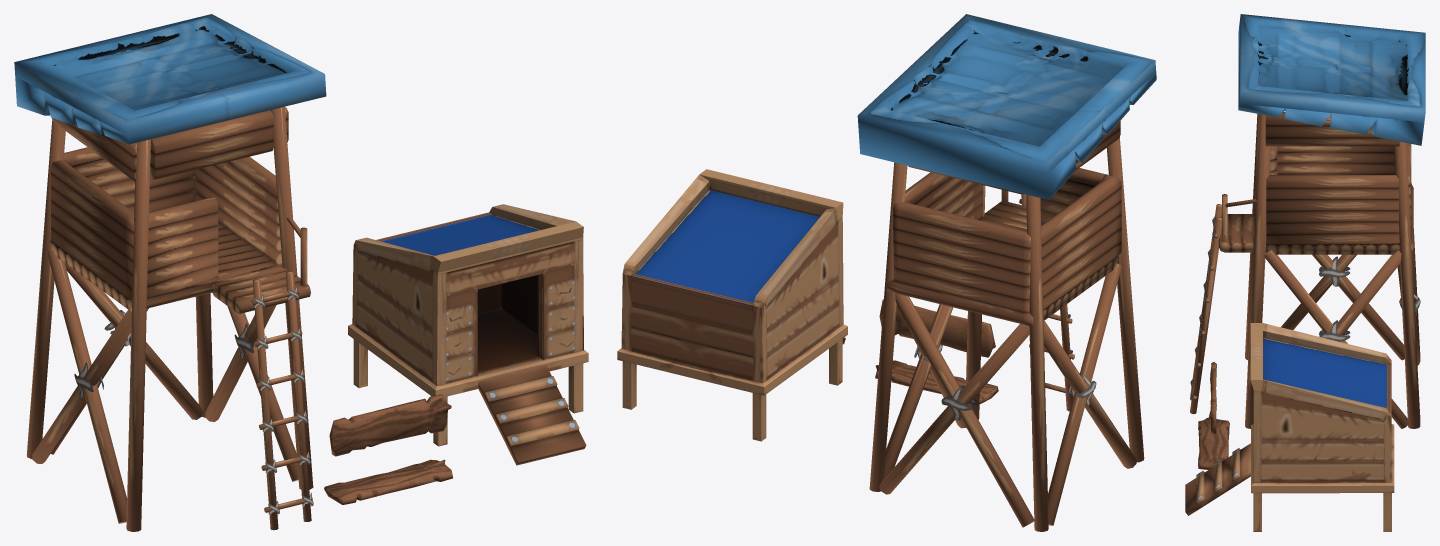
The model's file is buildings_and_props.glb.
3 views of the same model, side by side, from view 1: azimuth 30°, elevation 25°; view 2: azimuth 150°, elevation 25°; view 3: azimuth 270°, elevation 25° (orthographic). The views are drawn at different scales.
Visible parts, largest first — view 1: mirador, chickenhouse, entrer.001, miradorladder, woodenplank.001, woodenplank; view 2: mirador, chickenhouse, woodenplank.001, woodenplank, miradorladder; view 3: mirador, chickenhouse, entrer.001, miradorladder, woodenplank, woodenplank.001.
Boxes of the visible parts, x1=… form: mirador: x1=14, y1=14, x2=326, y2=531; chickenhouse: x1=348, y1=204, x2=588, y2=446; entrer.001: x1=478, y1=365, x2=586, y2=465; miradorladder: x1=251, y1=271, x2=313, y2=530; woodenplank.001: x1=329, y1=394, x2=451, y2=456; woodenplank: x1=324, y1=459, x2=452, y2=504; mirador: x1=857, y1=14, x2=1156, y2=531; chickenhouse: x1=617, y1=169, x2=847, y2=441; woodenplank.001: x1=879, y1=299, x2=995, y2=357; woodenplank: x1=875, y1=360, x2=998, y2=403; miradorladder: x1=1019, y1=194, x2=1074, y2=411; mirador: x1=1218, y1=14, x2=1425, y2=428; chickenhouse: x1=1250, y1=323, x2=1394, y2=531; entrer.001: x1=1185, y1=443, x2=1250, y2=515; miradorladder: x1=1190, y1=204, x2=1221, y2=414; woodenplank: x1=1198, y1=418, x2=1229, y2=469; woodenplank.001: x1=1208, y1=362, x2=1216, y2=434.
Bounding box in the file's own units: 7.27 × 6.2 × 3.97.
Materials: 3 (3 with a texture image).
